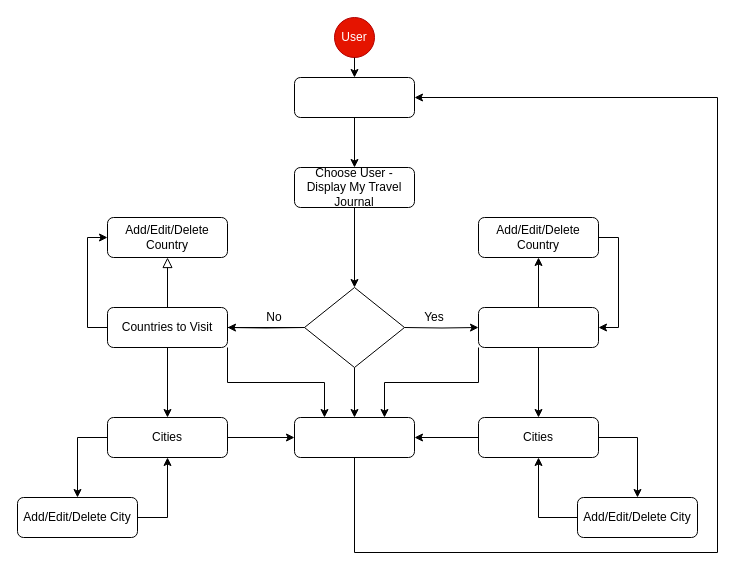
The diagram is 743 pixels wide and 578 high, and some of its shapes have lost their labels. Here are the shapes that lost their labels. From the top down, the box of each, then its label:
(294, 76, 414, 118): Home Page
(304, 286, 404, 368): Visited?
(478, 306, 598, 348): Visited Countries
(294, 416, 414, 458): Go Back to Home Page
